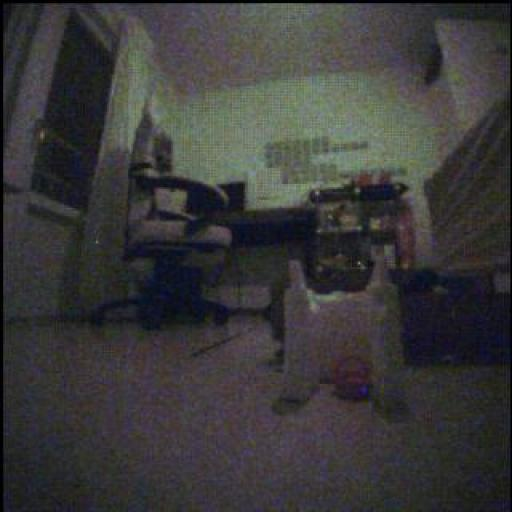basket: (334, 356, 372, 401)
